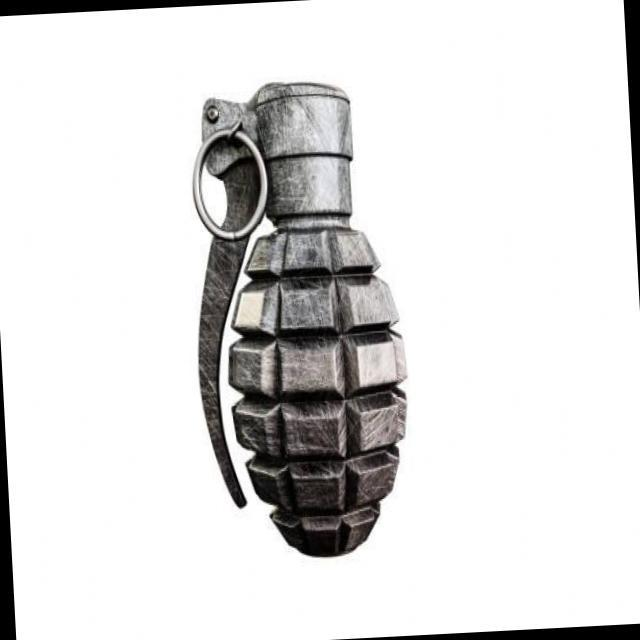grenade: (171, 70, 424, 580)
